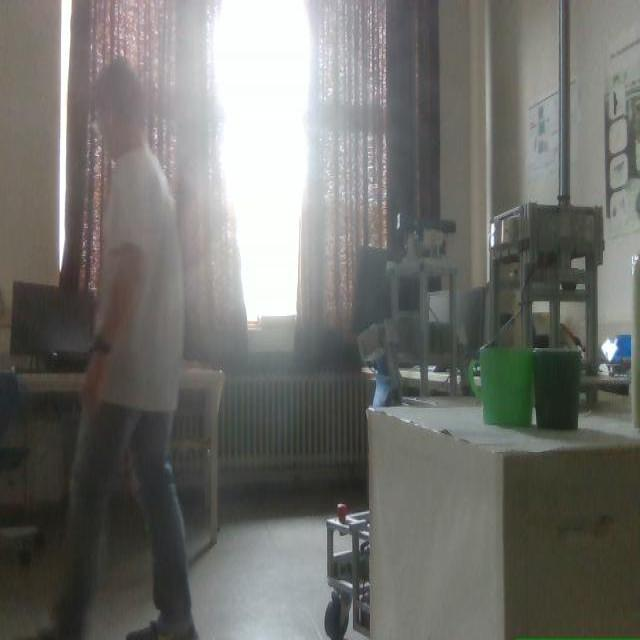humans: (36, 59, 197, 639)
objects: (368, 399, 639, 639), (10, 281, 93, 369), (467, 347, 533, 425), (534, 348, 580, 429)
